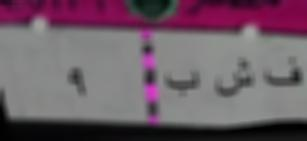9: (65, 62, 90, 101)
baa: (162, 61, 203, 103)
faa: (262, 49, 306, 96)
sheen: (212, 55, 257, 103)
